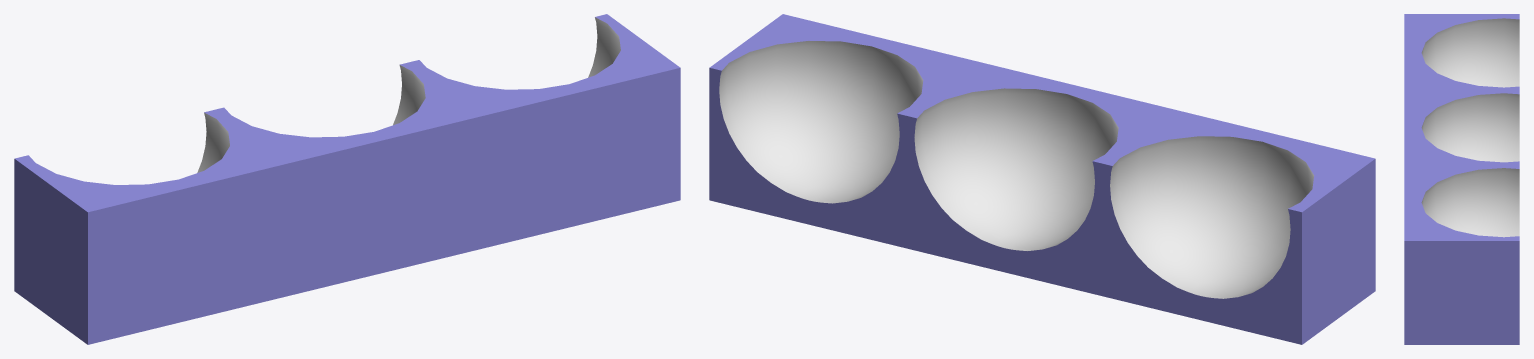
File: 3SeatsFO1.fbx
The picture shows the model from 3 angles, left to right: view 1: azimuth 30°, elevation 25°; view 2: azimuth 150°, elevation 25°; view 3: azimuth 270°, elevation 25°; orthographic projection. The views are drawn at different scales.
Visible parts, largest first — view 1: pasted__pasted__polySurface9 (×2), pasted__polySurface9; view 2: pasted__pasted__polySurface9 (×2), pasted__polySurface9; view 3: pasted__pasted__polySurface9 (×2), pasted__polySurface9.
Part boxes in pixels (<box>): pasted__pasted__polySurface9 (×2): <box>216,14,680,295</box>; pasted__polySurface9: <box>14,109,289,344</box>; pasted__pasted__polySurface9 (×2): <box>709,14,1173,295</box>; pasted__polySurface9: <box>1100,109,1375,344</box>; pasted__pasted__polySurface9 (×2): <box>1404,89,1519,344</box>; pasted__polySurface9: <box>1404,14,1519,91</box>.
Size of the model in its own units: 19.07 by 4.08 by 4.09.
